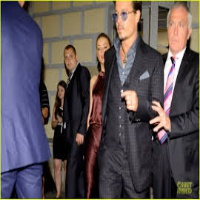ring: (147, 115, 165, 124), (126, 101, 133, 106), (79, 138, 82, 146)
